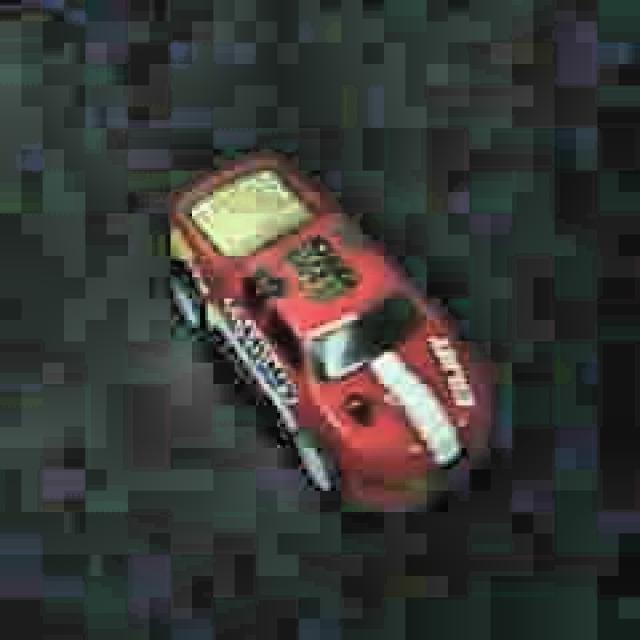car: (165, 148, 497, 520)
